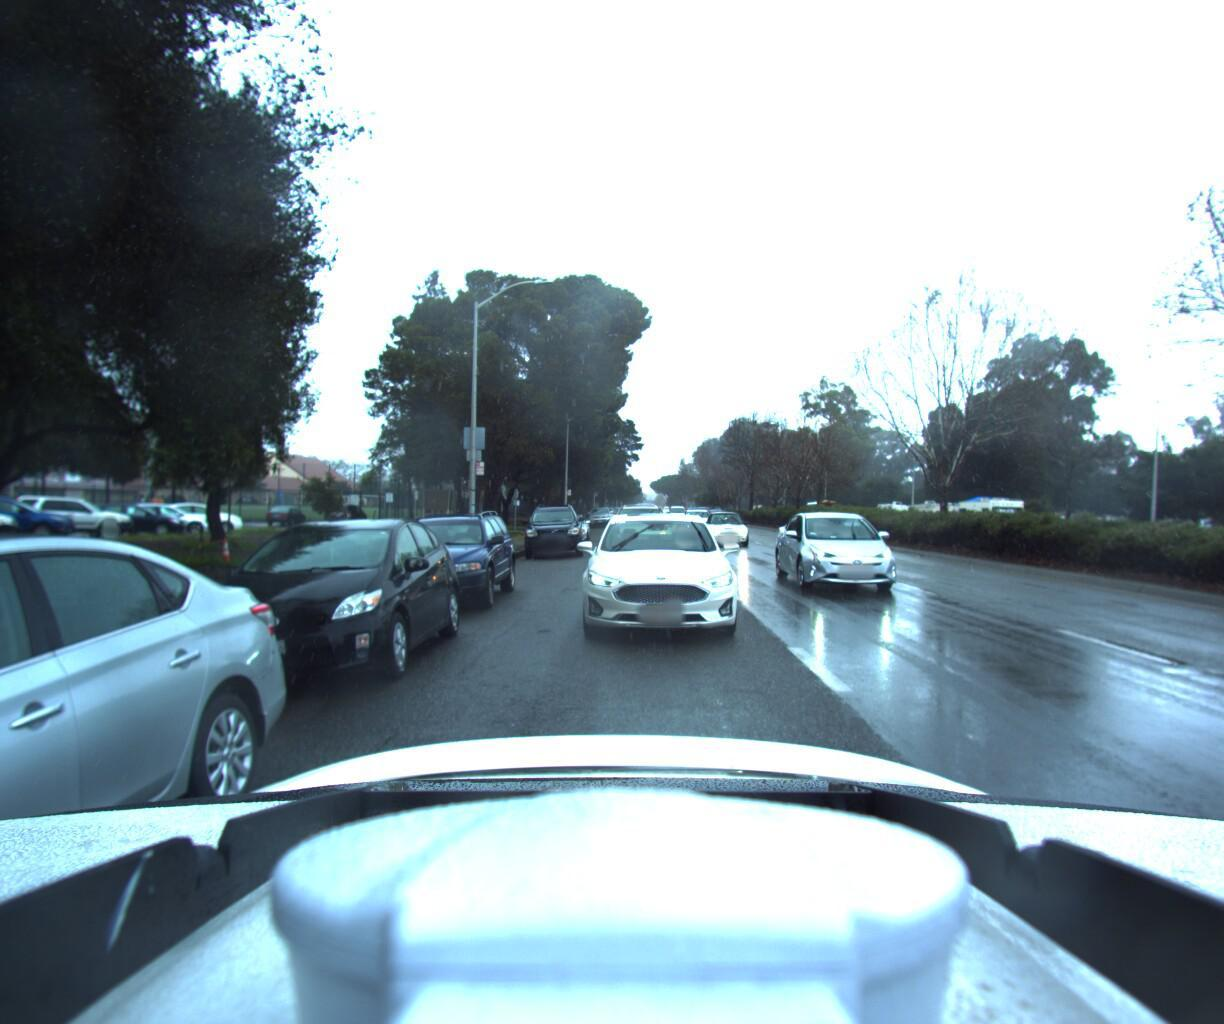car: (147, 513, 462, 708), (576, 500, 747, 647), (352, 506, 517, 615), (773, 509, 923, 599), (604, 502, 671, 563), (519, 497, 583, 558), (699, 507, 754, 548), (677, 505, 713, 532), (585, 503, 610, 525), (666, 506, 686, 523)
other_vehicle: (939, 490, 1026, 541), (899, 496, 960, 534), (871, 497, 914, 530)
